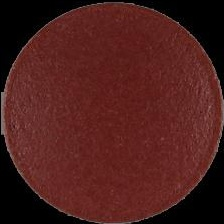61786-268: (0, 0, 224, 224)
